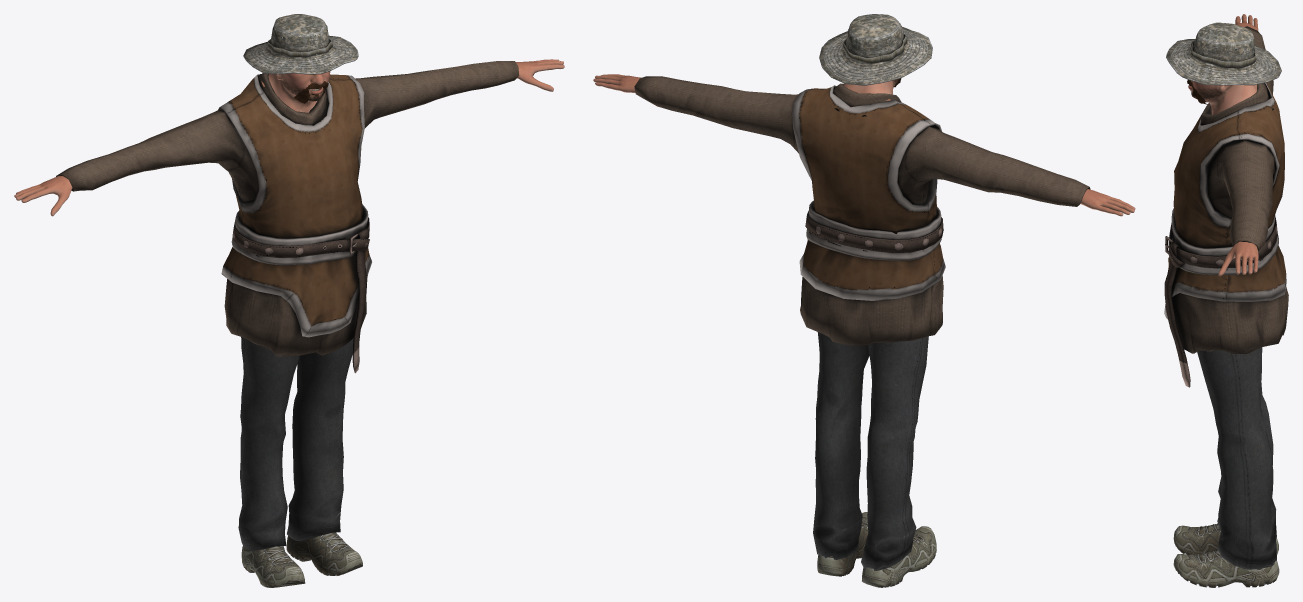
The picture shows the model from 3 angles, left to right: view 1: azimuth 30°, elevation 25°; view 2: azimuth 150°, elevation 25°; view 3: azimuth 270°, elevation 25°; orthographic projection. The views are drawn at different scales.
Visible parts, largest first — view 1: Tops, Bottoms, Hats, Shoes, Body; view 2: Tops, Bottoms, Hats, Shoes, Body; view 3: Tops, Bottoms, Hats, Shoes, Body.
Boxes of the visible parts, x1,y1,x2,y2 form: Tops: (56,61,519,373); Bottoms: (238,337,353,551); Hats: (243,14,358,74); Shoes: (241,532,362,587); Body: (14,59,564,216); Tops: (634,76,1090,345); Bottoms: (813,332,928,570); Hats: (819,14,932,85); Shoes: (817,512,936,587); Body: (593,74,1135,216); Tops: (1164,26,1288,387); Bottoms: (1197,347,1276,569); Hats: (1166,22,1281,85); Shoes: (1173,523,1279,587); Body: (1188,14,1258,276).
Bounding box in the file's own units: 187 × 180 × 37.75.
7 materials, 7 textured.
